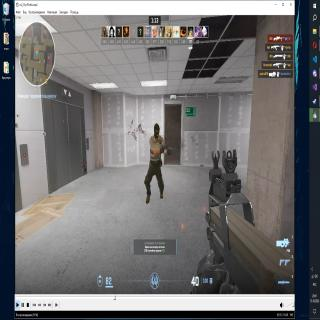T-Body: (146, 125, 166, 203)
T-Head: (152, 125, 162, 140)
